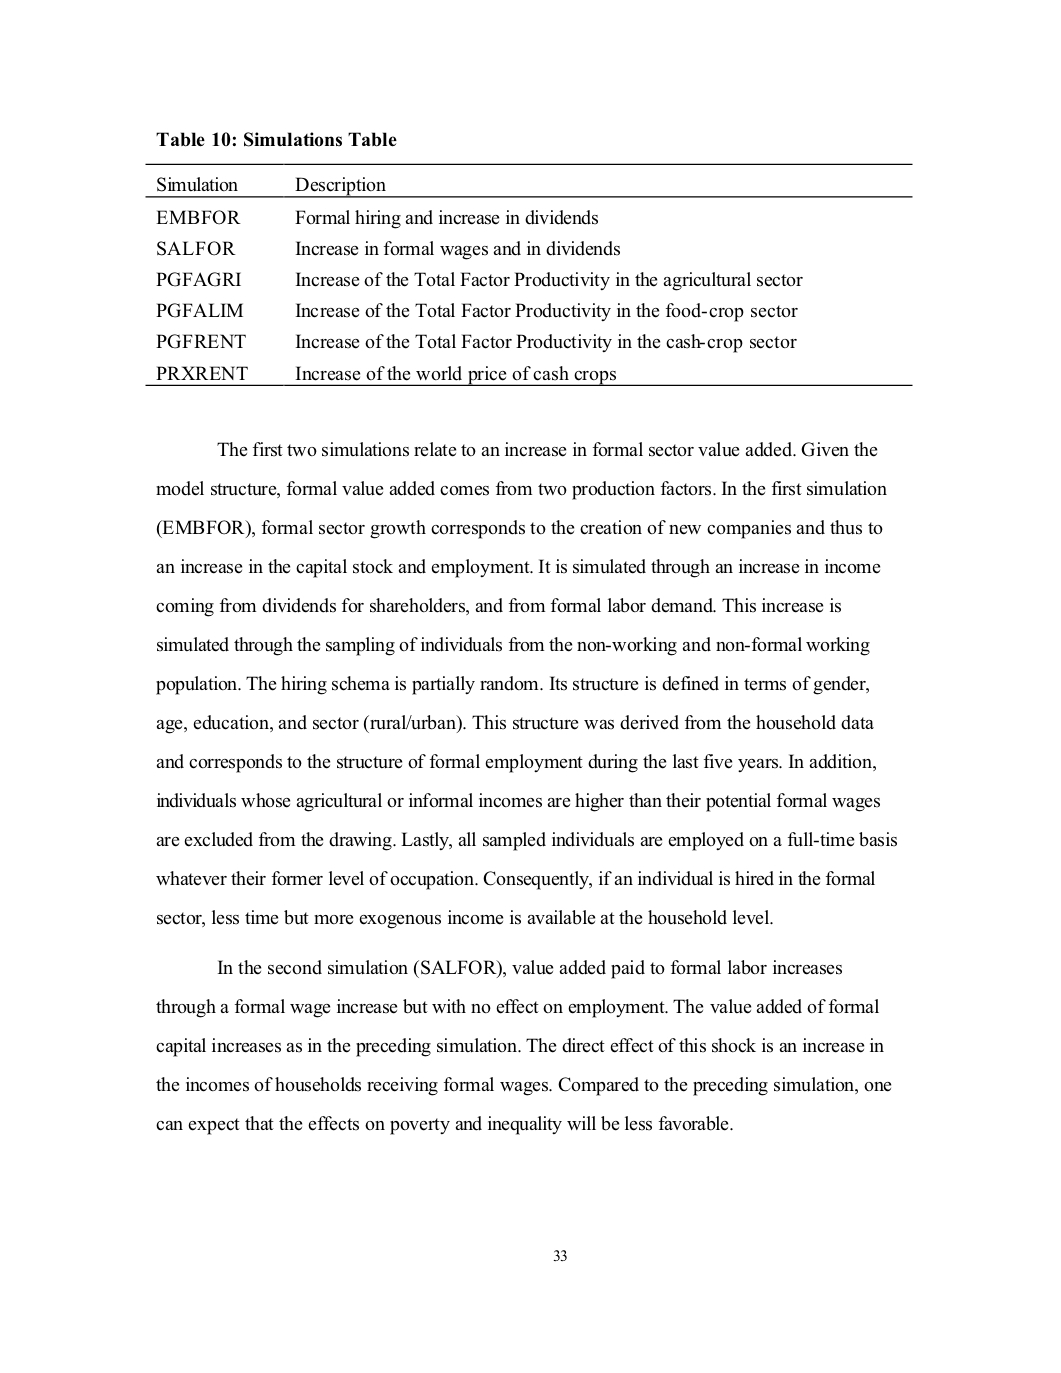Table: (145, 163, 912, 384)
